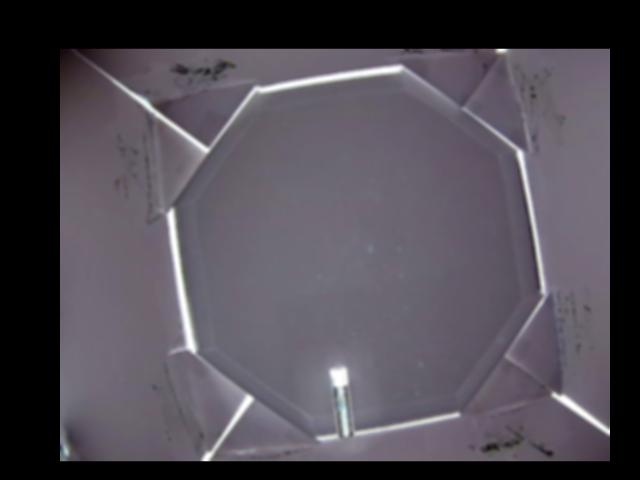Battery: (328, 365, 358, 439)
